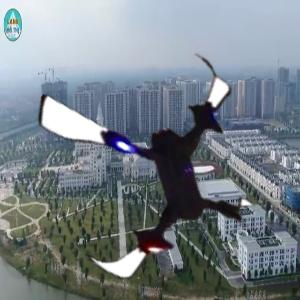drone: (23, 40, 272, 289)
